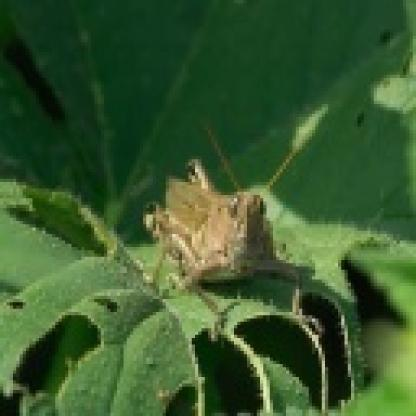grasshopper: (143, 152, 294, 300)
